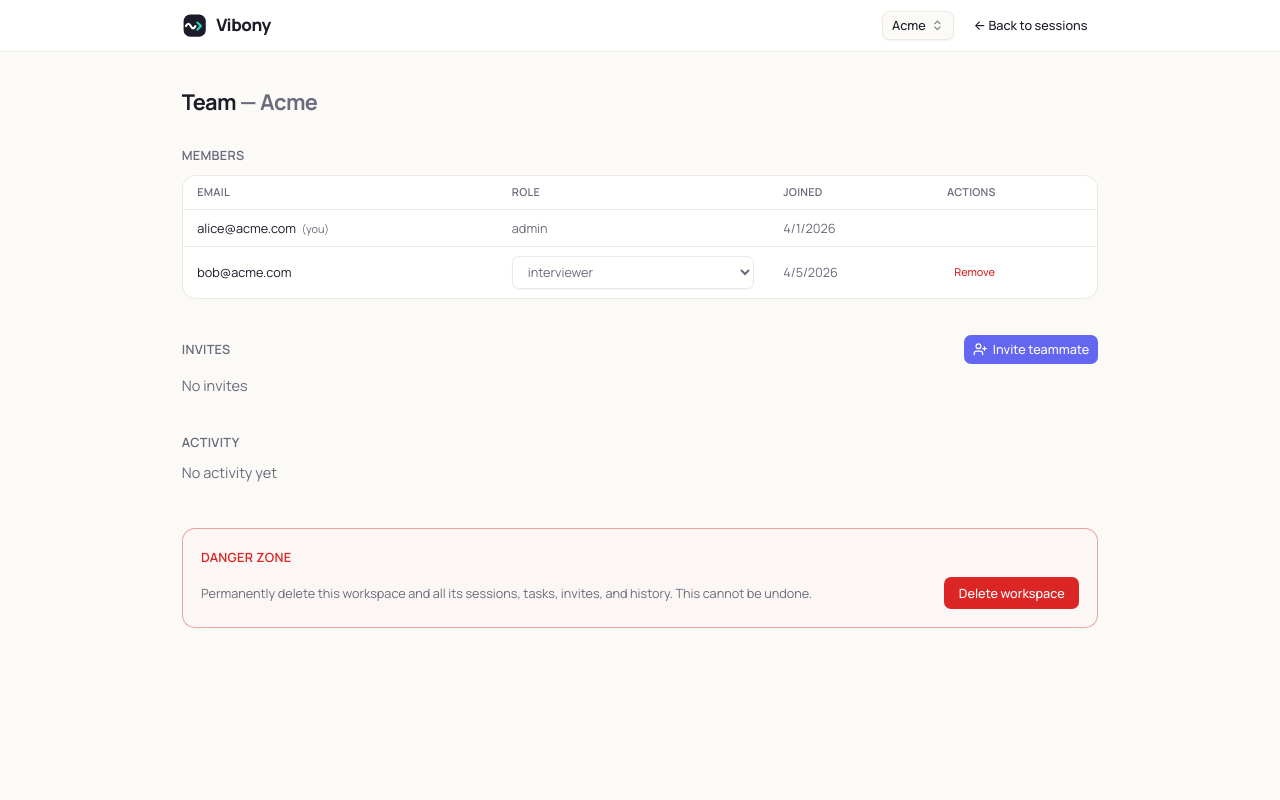
TeamPage › surfaces the last_admin 409 as a localized error
The image size is (1280, 800).
Select "admin" in the dropdown with test id "member-role-bob@acme.com" at (633, 272), box [512,256,754,288]
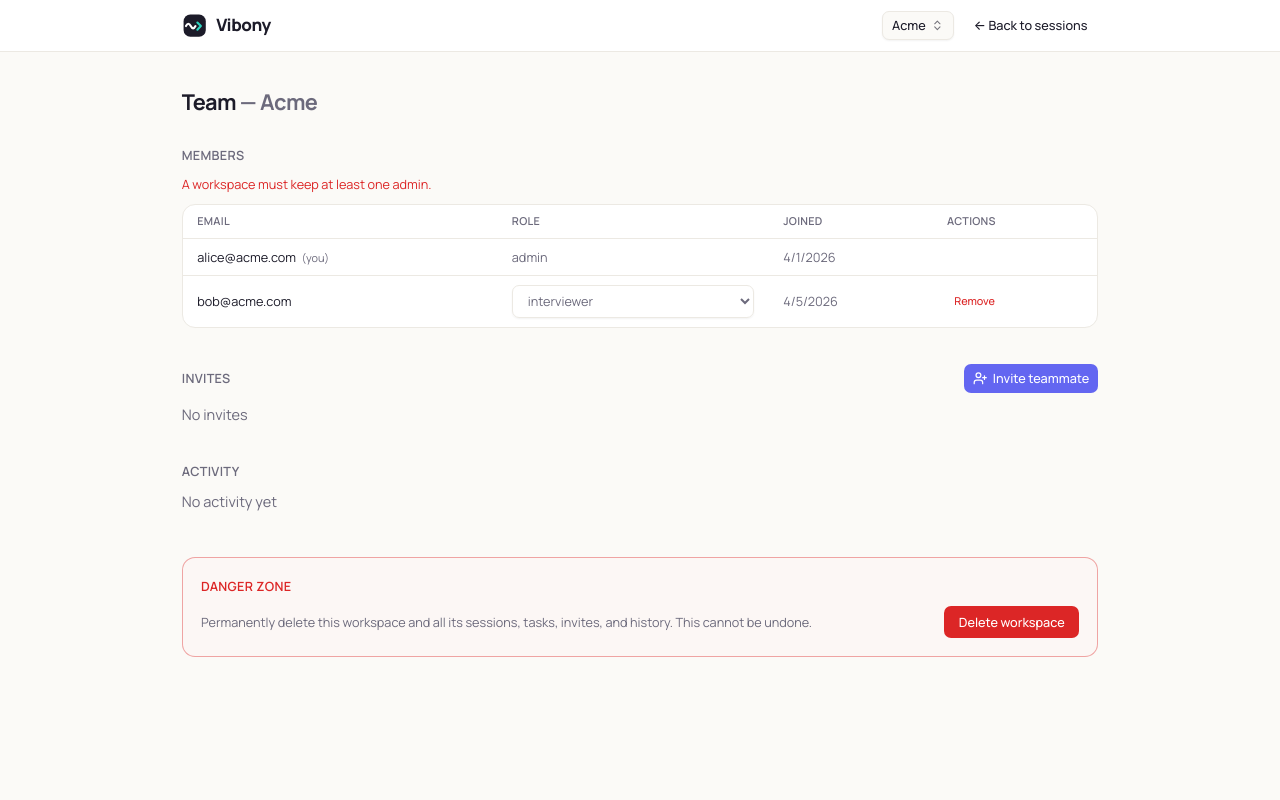
Result: the message with test id "member-error" shows "at least one admin" at [182,175,432,193]
